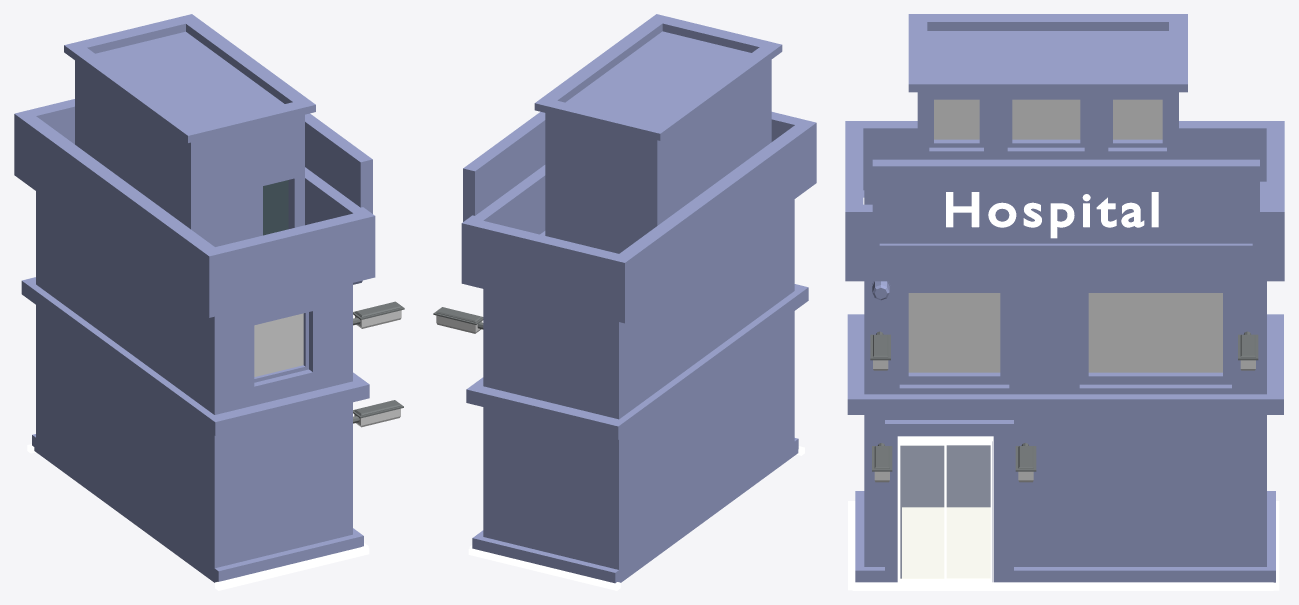
Rendered from hospital.fbx.
3 views of the same model, side by side, from view 1: azimuth 30°, elevation 25°; view 2: azimuth 150°, elevation 25°; view 3: azimuth 270°, elevation 25° (orthographic). The views are drawn at different scales.
Parts seen in each view (by area): view 1: house2, Cube.006, Cube.010, Cube.005, Cube.012, Cube.004; view 2: house2, Cube.006, Cube.010, Cube.005, Cube.001; view 3: house2, Cube.010, Cube.006, Cube.005, Text.001, window#4_004, Cube.002, Cube.012, Cube.001, Cube.004.
Part boxes in pixels (<box>): house2: <box>14,14,375,582</box>; Cube.006: <box>21,277,369,435</box>; Cube.010: <box>305,113,372,213</box>; Cube.005: <box>27,444,369,590</box>; Cube.012: <box>353,301,404,328</box>; Cube.004: <box>353,400,403,427</box>; house2: <box>461,14,816,583</box>; Cube.006: <box>466,284,808,439</box>; Cube.010: <box>463,111,545,221</box>; Cube.005: <box>468,446,804,590</box>; Cube.001: <box>433,307,483,333</box>; house2: <box>845,14,1284,582</box>; Cube.010: <box>872,159,1259,251</box>; Cube.006: <box>847,314,1283,414</box>; Cube.005: <box>848,501,1279,590</box>; Text.001: <box>946,192,1158,238</box>; window#4_004: <box>897,436,993,582</box>; Cube.002: <box>1015,446,1036,482</box>; Cube.012: <box>870,334,890,370</box>; Cube.001: <box>1238,334,1258,370</box>; Cube.004: <box>872,446,892,482</box>.
Size of the model in its own units: 357 by 721 by 584.
